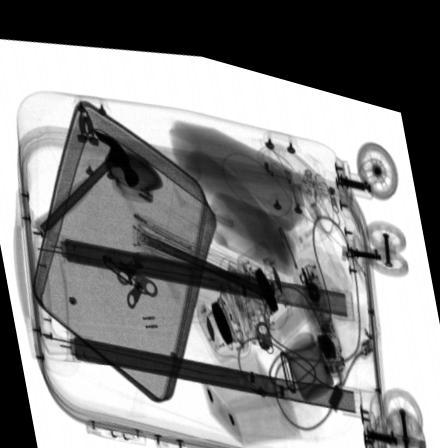Hammer: (34, 125, 140, 236)
